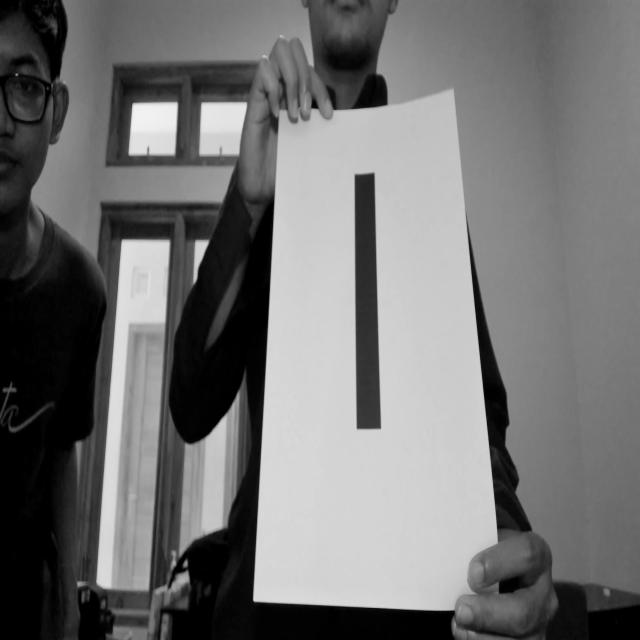i: (339, 124, 405, 474)
